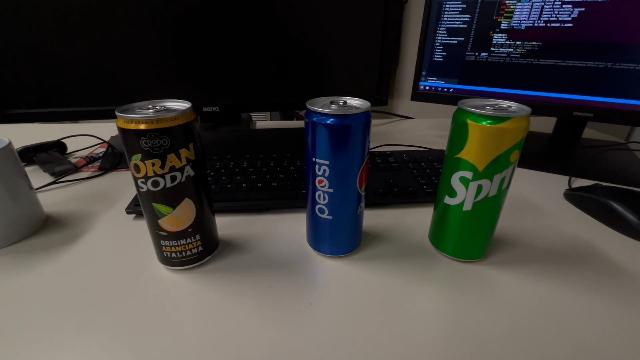OranSoda: (112, 96, 224, 274)
Pepsi: (427, 95, 533, 265), (303, 94, 373, 260)
